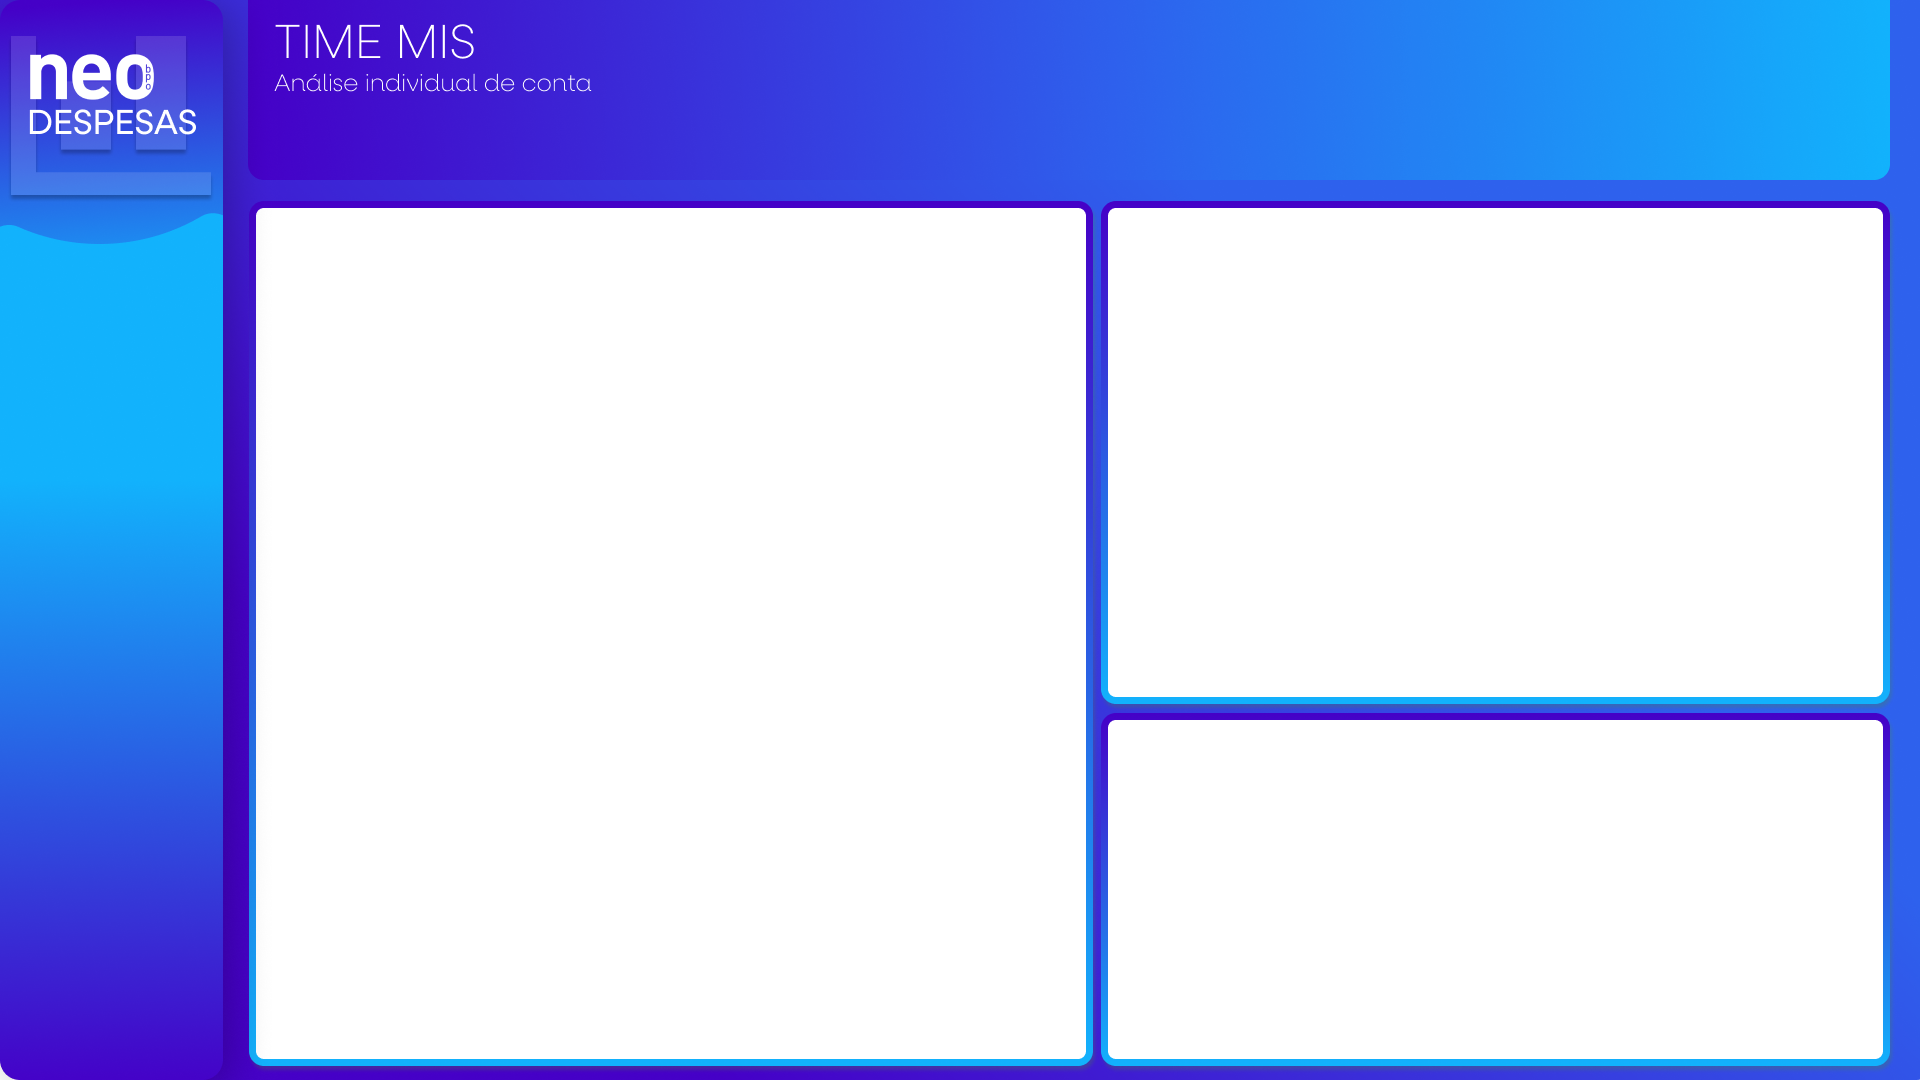

This screenshot's page, from the dashboard's own definition file:
{"tool":"powerbi","page":{"name":"TIME MIS","canvas":[1280,720],"ordinal":2},"visuals":[{"type":"slicer","title":"Mês","fields":{"Values":["dCalendario.Mes_Abreviado"]},"box":[1160.2,7.3,96.3,55.1],"z":0},{"type":"slicer","title":"Ano","fields":{"Values":["dCalendario.Ano"]},"box":[1088.2,7.3,83,55.1],"z":1000},{"type":"slicer","title":"Centro de Custo","fields":{"Values":["dCENTRO_DE_CUSTO_MASTER.CC_NOME"]},"box":[1117.6,63.9,139.8,55.2],"z":2000},{"type":"slicer","title":"Conta","fields":{"Values":["dCONTAS.CODCONTA"]},"box":[1026.5,63.9,97,55.1],"z":3000},{"type":"lineClusteredColumnComboChart","title":"Valor Orçado por Centro de Custo","fields":{"Category":["dCENTRO_DE_CUSTO_MASTER.CC_NOME"],"Y":["MEDIDAS.Vlr. Orçado","MEDIDAS.Vlr. Realizado"],"Y2":["MEDIDAS.Desvio %"]},"box":[173.4,138.9,546.7,562.1],"z":4000},{"type":"pivotTable","fields":{"Rows":["dCONTAS.CONTA"],"Values":["MEDIDAS.Desvio %","MEDIDAS.Vlr. Orçado","MEDIDAS.Vlr. Realizado"]},"box":[740.7,482,516.6,219],"z":5000},{"type":"card","fields":{"Values":["MEDIDAS.Time MIS"]},"box":[740.7,138.9,510.7,320.4],"z":6000},{"type":"card","fields":{"Values":["MEDIDAS.Atualização"]},"box":[0,562.1,158.7,144.8],"z":7000},{"type":"pageNavigator","box":[0,185.9,149.2,213.1],"z":8000}]}

Visuals, with their boxes in screenshot pixels (x1, y1, x2, y2), scaled from the page's 1280x720 canvas onto the 1920x1080 screenshot:
"Mês" slicer: bbox(1740, 11, 1885, 94)
"Ano" slicer: bbox(1632, 11, 1757, 94)
"Centro de Custo" slicer: bbox(1676, 96, 1886, 179)
"Conta" slicer: bbox(1540, 96, 1685, 178)
"Valor Orçado por Centro de Custo" lineClusteredColumnComboChart: bbox(260, 208, 1080, 1052)
pivotTable - dCONTAS.CONTA x MEDIDAS.Desvio %: bbox(1111, 723, 1886, 1052)
card - MEDIDAS.Time MIS: bbox(1111, 208, 1877, 689)
card - MEDIDAS.Atualização: bbox(0, 843, 238, 1060)
pageNavigator: bbox(0, 279, 224, 598)
